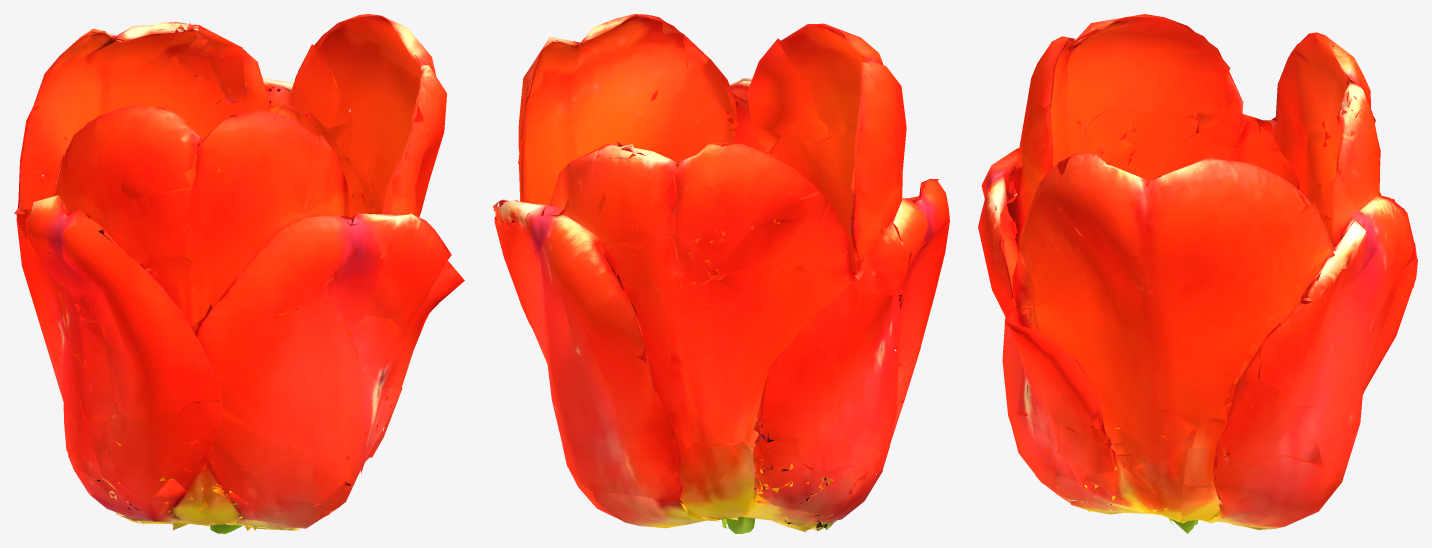
Rendered from tulpe.glb.
The picture shows the model from 3 angles, left to right: view 1: azimuth 30°, elevation 25°; view 2: azimuth 150°, elevation 25°; view 3: azimuth 270°, elevation 25°; orthographic projection.
Parts seen in each view (by area): view 1: tulpe; view 2: tulpe; view 3: tulpe.
Part boxes in pixels (x1,y1,x2,y2): tulpe: (14, 14, 464, 533); tulpe: (493, 14, 949, 533); tulpe: (978, 14, 1417, 533).
Size of the model in its own units: 0.3262 by 0.3743 by 0.3187.
1 material, 1 textured.
